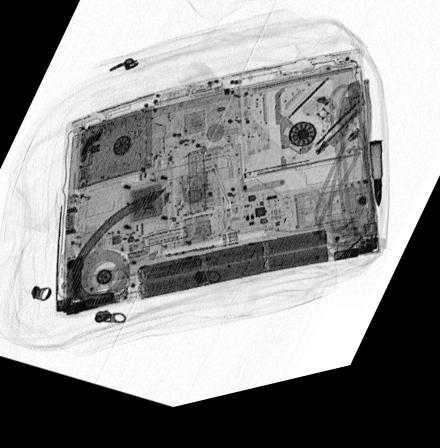Bullet: (367, 158, 382, 227)
